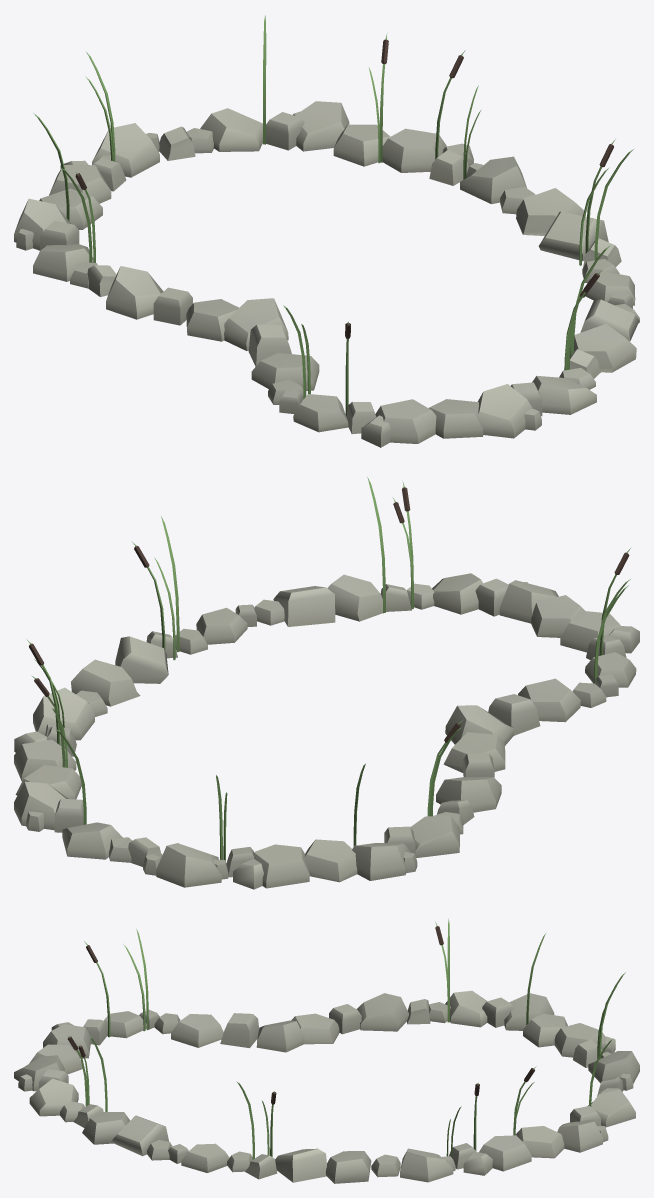
File: pond.fbx
3 renders of one model, top to bottom at view 1: azimuth 30°, elevation 25°; view 2: azimuth 150°, elevation 25°; view 3: azimuth 270°, elevation 25°, orthographic. The views are drawn at different scales.
Parts seen in each view (by area): view 1: pCylinder1, pCylinder36, pCylinder28, pCylinder29, pCylinder22, pCylinder24, pCylinder40, pCylinder4, pCylinder10, pCylinder51, pCylinder41, pCylinder37 (+23 smaller); view 2: pCylinder29, pCylinder11, pCylinder41, pCylinder40, pCylinder44, pCylinder51, pCylinder10, pCylinder17, pCylinder32, pCylinder49, pCylinder43, pCylinder36 (+23 smaller); view 3: pCylinder36, pCylinder40, pCylinder11, pCylinder51, pCylinder32, pCylinder28, pCylinder41, pCylinder7, pCylinder37, pCylinder43, pCylinder52, pCylinder24 (+26 smaller).
Part boxes in pixels (x1,y1,x2,y2): pCylinder1: [477, 384, 532, 438]; pCylinder36: [106, 266, 163, 319]; pCylinder28: [382, 128, 446, 172]; pCylinder29: [92, 123, 159, 177]; pCylinder22: [295, 101, 349, 151]; pCylinder24: [200, 108, 262, 151]; pCylinder40: [538, 211, 608, 261]; pCylinder4: [375, 399, 436, 443]; pCylinder10: [570, 324, 636, 372]; pCylinder51: [460, 156, 526, 204]; pCylinder41: [516, 188, 585, 235]; pCylinder37: [224, 298, 288, 350]; pCylinder29: [156, 843, 221, 887]; pCylinder11: [273, 586, 335, 626]; pCylinder41: [71, 659, 140, 706]; pCylinder40: [115, 636, 168, 683]; pCylinder44: [252, 844, 309, 888]; pCylinder51: [33, 687, 94, 740]; pCylinder10: [327, 574, 382, 621]; pCylinder17: [304, 839, 357, 882]; pCylinder32: [518, 678, 580, 722]; pCylinder49: [352, 843, 410, 880]; pCylinder43: [410, 815, 459, 857]; pCylinder36: [436, 777, 501, 812]; pCylinder36: [356, 993, 408, 1031]; pCylinder40: [275, 1148, 326, 1182]; pCylinder11: [112, 1115, 168, 1156]; pCylinder51: [400, 1148, 453, 1182]; pCylinder32: [171, 1014, 223, 1047]; pCylinder28: [479, 1135, 531, 1171]; pCylinder41: [325, 1151, 371, 1183]; pCylinder7: [29, 1078, 78, 1116]; pCylinder37: [256, 1020, 304, 1052]; pCylinder43: [445, 990, 487, 1027]; pCylinder52: [515, 1126, 564, 1158]; pCylinder24: [587, 1089, 635, 1127].
Size of the model in its own units: 20.54 by 5.27 by 30.15.
Materials: 1 (1 with a texture image).
